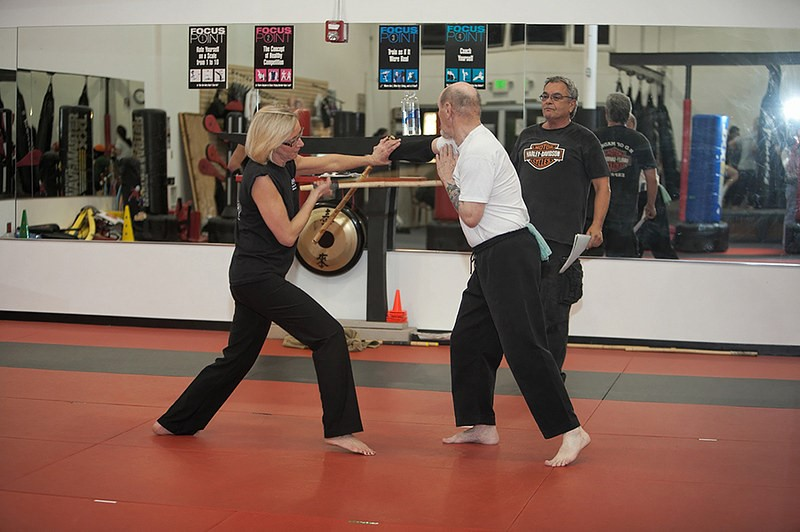baston_e: (312, 167, 374, 239), (303, 178, 444, 192), (627, 346, 756, 356), (384, 340, 438, 347), (568, 343, 622, 349)
baston_v: (297, 184, 305, 192), (754, 348, 760, 358), (310, 237, 317, 245), (435, 341, 441, 348), (623, 346, 629, 352)
